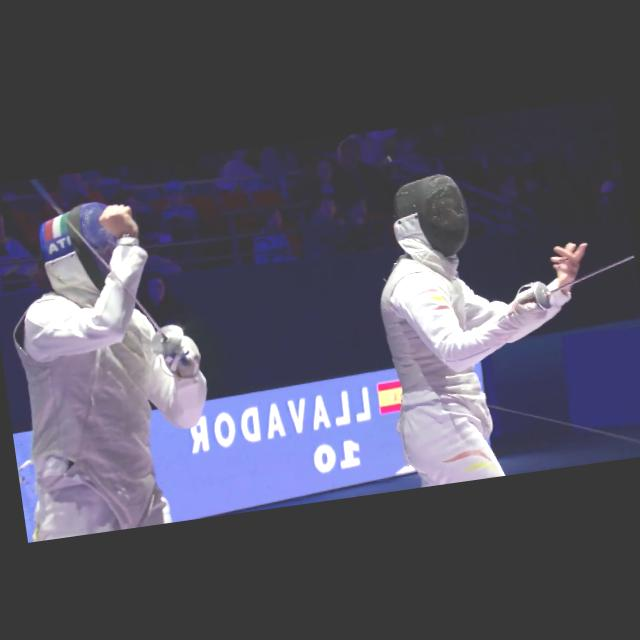blade: (28, 164, 190, 360), (523, 240, 640, 317)
